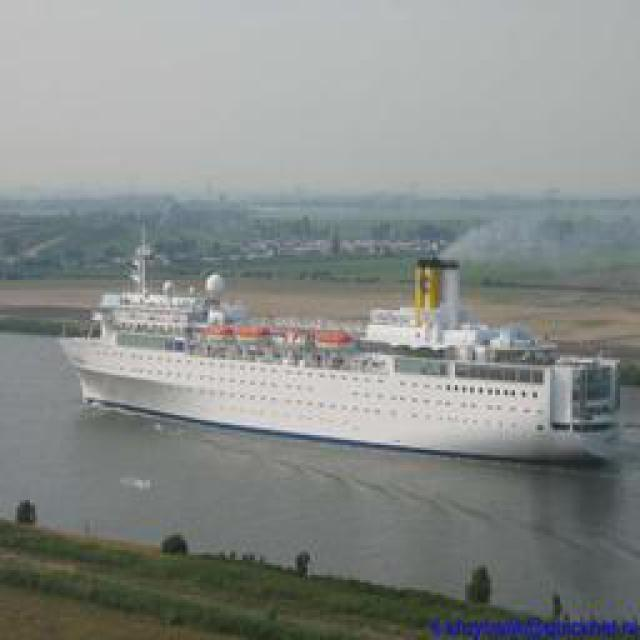Ship: (61, 264, 614, 467)
